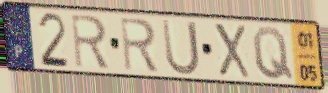2: (36, 11, 70, 70)
Q: (251, 24, 296, 82)
R: (69, 13, 112, 71), (118, 16, 161, 74)
U: (159, 17, 202, 78)
X: (211, 21, 252, 81)
